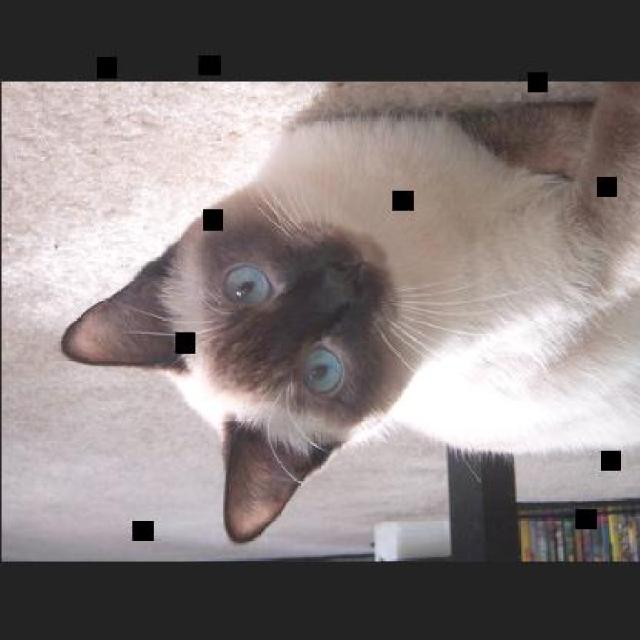unauthorized: (59, 80, 638, 543)
